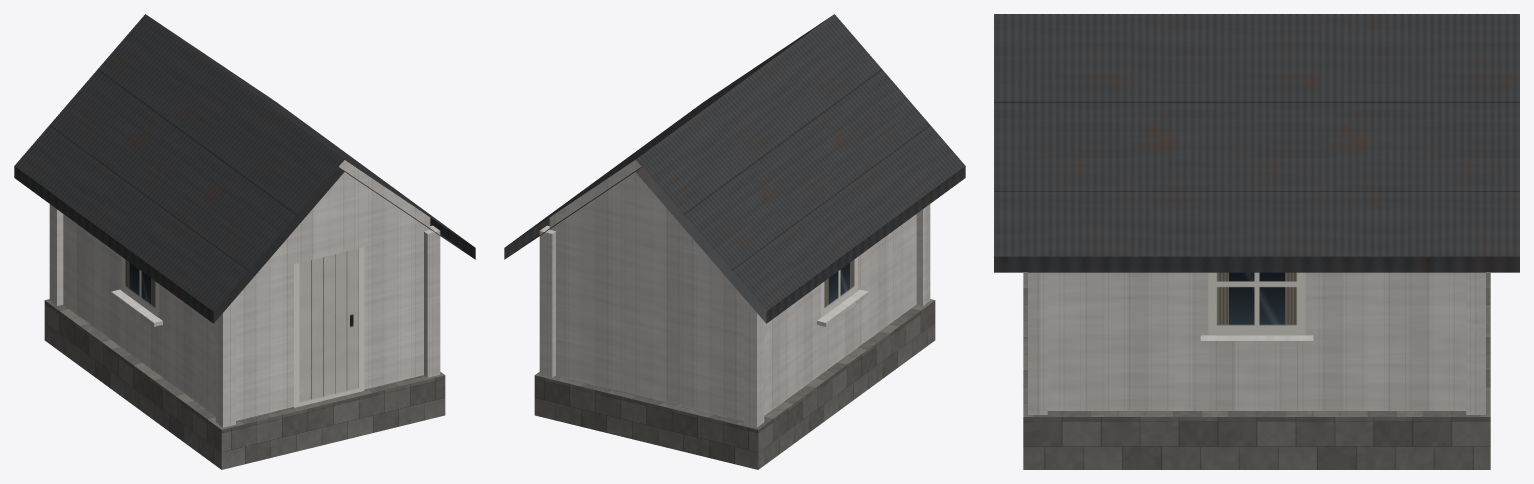
File: shed.glb
3 views of the same model, side by side, from view 1: azimuth 30°, elevation 25°; view 2: azimuth 150°, elevation 25°; view 3: azimuth 270°, elevation 25° (orthographic). The views are drawn at different scales.
Parts seen in each view (by area): view 1: shed_LOD0; view 2: shed_LOD0; view 3: shed_LOD0.
Boxes of the visible parts, x1,y1,x2,y2 form: shed_LOD0: (14,14,475,469); shed_LOD0: (504,14,965,469); shed_LOD0: (994,14,1519,469).
Size of what is drawn, in the model's own units: 4.1 by 4.35 by 5.4.
Materials: 6 (6 with a texture image).
